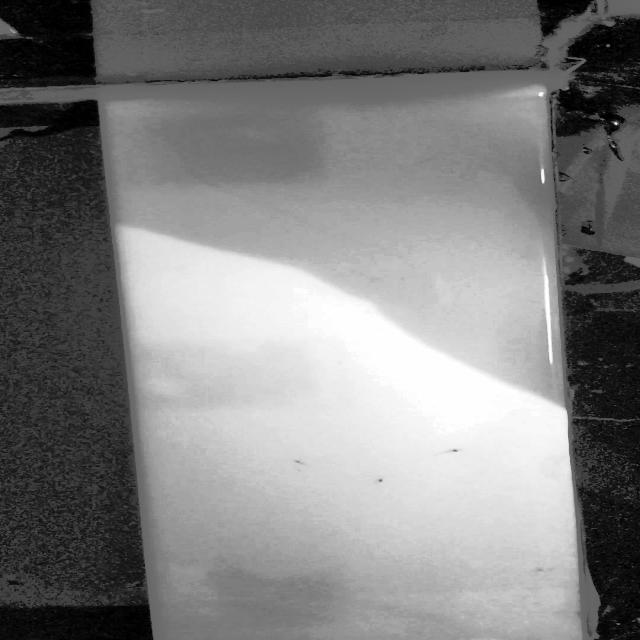shrimp: (283, 452, 332, 468), (423, 446, 475, 456), (368, 472, 396, 488), (522, 564, 545, 575)
